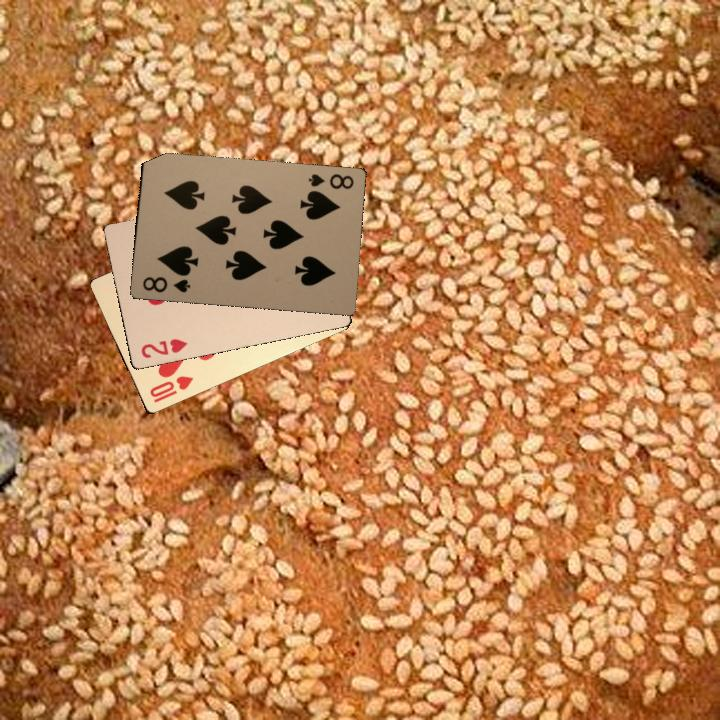10h: (146, 372, 196, 405)
2h: (137, 334, 190, 361)
8s: (139, 273, 192, 295), (304, 170, 356, 192)
